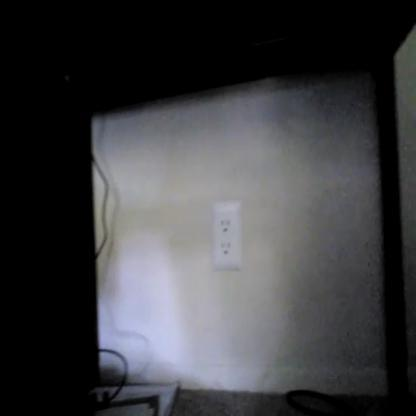OUTLET: (212, 201, 242, 270)
